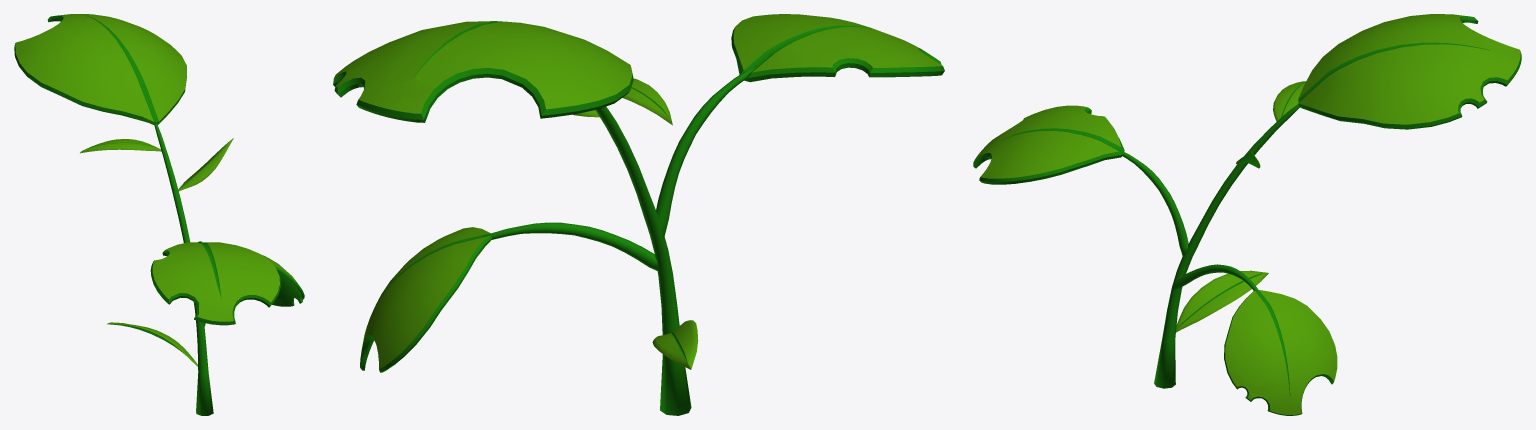
Rendered from SwampVegetation2.fbx.
3 views of the same model, side by side, from view 1: azimuth 30°, elevation 25°; view 2: azimuth 150°, elevation 25°; view 3: azimuth 270°, elevation 25° (orthographic). The views are drawn at different scales.
Parts seen in each view (by area): view 1: SwanmpVegetation2_LOD0; view 2: SwanmpVegetation2_LOD0; view 3: SwanmpVegetation2_LOD0.
Boxes of the visible parts, <box> form: SwanmpVegetation2_LOD0: <box>14,14,304,415</box>; SwanmpVegetation2_LOD0: <box>333,14,944,415</box>; SwanmpVegetation2_LOD0: <box>973,14,1521,415</box>.
Size of what is drawn, in the model's own units: 444 by 546 by 772.
